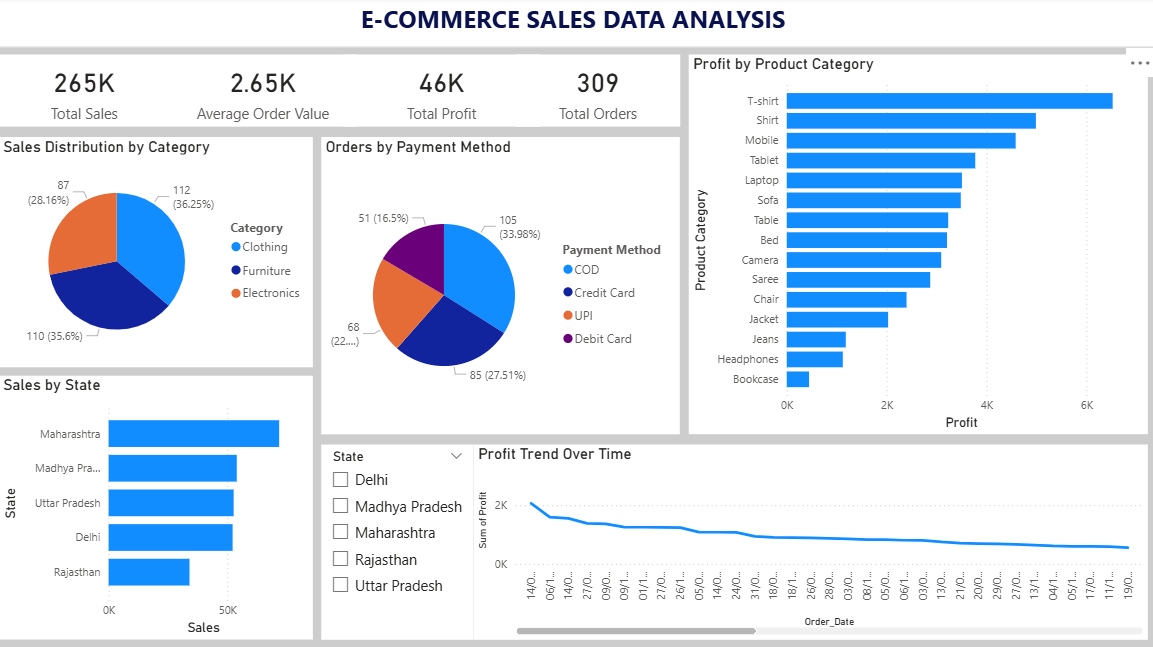

This screenshot's page, from the dashboard's own definition file:
{"tool":"powerbi","page":{"name":"Page 1","canvas":[1280,720],"ordinal":0},"visuals":[{"type":"pieChart","fields":{"Category":["ecommerce_dataset_100_rows.Category"],"Y":["Sum(ecommerce_dataset_100_rows.Quantity)"]},"box":[9.6,153.7,344.4,252.5],"z":0},{"type":"pieChart","fields":{"Category":["ecommerce_dataset_100_rows.Payment_Mode"],"Y":["Sum(ecommerce_dataset_100_rows.Quantity)"]},"box":[363.6,153.7,393.8,326.6],"z":1000},{"type":"clusteredBarChart","fields":{"Category":["ecommerce_dataset_100_rows.SubCategory"],"Y":["Sum(ecommerce_dataset_100_rows.Profit)"]},"box":[767.1,63.1,503.6,417.2],"z":2000},{"type":"clusteredBarChart","fields":{"Category":["ecommerce_dataset_100_rows.State"],"Y":["Sum(ecommerce_dataset_100_rows.Amount)"]},"box":[9.6,415.8,344.4,289.5],"z":3000},{"type":"lineChart","title":"Profit Trend Over Time","fields":{"Category":["ecommerce_dataset_100_rows.Order_Date"],"Y":["Sum(ecommerce_dataset_100_rows.Profit)"]},"box":[531,491.3,739.6,214.1],"z":4000},{"type":"slicer","fields":{"Values":["ecommerce_dataset_100_rows.State"]},"box":[363.6,491.3,167.4,214.1],"z":5000},{"type":"card","fields":{"Values":["Sum(ecommerce_dataset_100_rows.Amount)"]},"box":[9.6,63.1,188,79.6],"z":6000},{"type":"card","fields":{"Values":["Sum(ecommerce_dataset_100_rows.Profit)"]},"box":[388.3,63.1,215.4,79.6],"z":7000},{"type":"card","fields":{"Values":["Sum(ecommerce_dataset_100_rows.Quantity)"]},"box":[577.7,63.1,179.8,79.6],"z":8000},{"type":"card","fields":{"Values":["ecommerce_dataset_100_rows.AOV"]},"box":[197.6,63.1,204.5,79.6],"z":9000},{"type":"textbox","box":[0,0,1280.3,54.9],"z":10000}]}

Visuals, with their boxes in screenshot pixels (x1, y1, x2, y2), scaled from the page's 1280x720 canvas onto the 1153x647 screenshot:
pieChart - ecommerce_dataset_100_rows.Category x Sum(ecommerce_dataset_100_rows.Quantity): x1=9 y1=138 x2=319 y2=365
pieChart - ecommerce_dataset_100_rows.Payment_Mode x Sum(ecommerce_dataset_100_rows.Quantity): x1=328 y1=138 x2=682 y2=432
clusteredBarChart - ecommerce_dataset_100_rows.SubCategory x Sum(ecommerce_dataset_100_rows.Profit): x1=691 y1=57 x2=1145 y2=432
clusteredBarChart - ecommerce_dataset_100_rows.State x Sum(ecommerce_dataset_100_rows.Amount): x1=9 y1=374 x2=319 y2=634
"Profit Trend Over Time" lineChart: x1=478 y1=441 x2=1145 y2=634
slicer - ecommerce_dataset_100_rows.State: x1=328 y1=441 x2=478 y2=634
card - Sum(ecommerce_dataset_100_rows.Amount): x1=9 y1=57 x2=178 y2=128
card - Sum(ecommerce_dataset_100_rows.Profit): x1=350 y1=57 x2=544 y2=128
card - Sum(ecommerce_dataset_100_rows.Quantity): x1=520 y1=57 x2=682 y2=128
card - ecommerce_dataset_100_rows.AOV: x1=178 y1=57 x2=362 y2=128
textbox: x1=0 y1=0 x2=1152 y2=49
